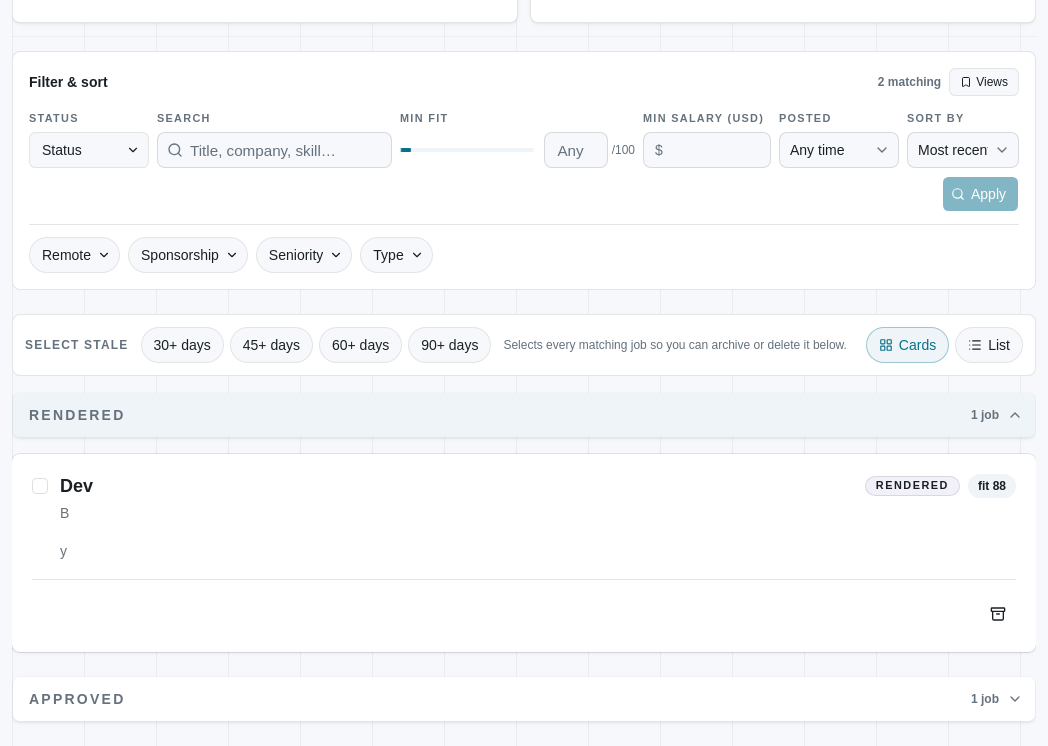
Test: PipelineContainer › groups cards by stage
This screenshot has width=1048, height=746.
(page scrolled)
Expected: the text "Dev" is shown, [60,476,93,496]
Click the button "Approved 1 job" at point(77, 699), box [12,676,1036,722]
(page scrolled)
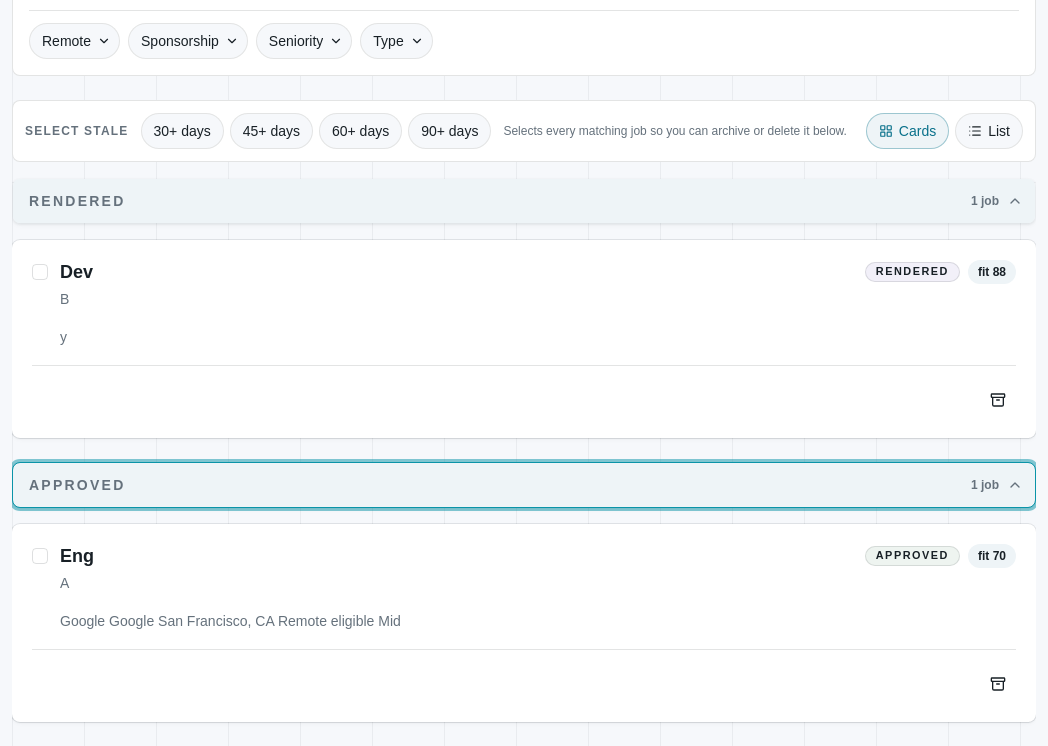
Expected: the text "fit 88" is shown, [968,260,1016,284]
Expected: the text "fit 70" is shown, [968,544,1016,568]
Expected: the text "Google Google San Francisco, CA Remote eligible Mid" is shown, [60,613,401,629]
